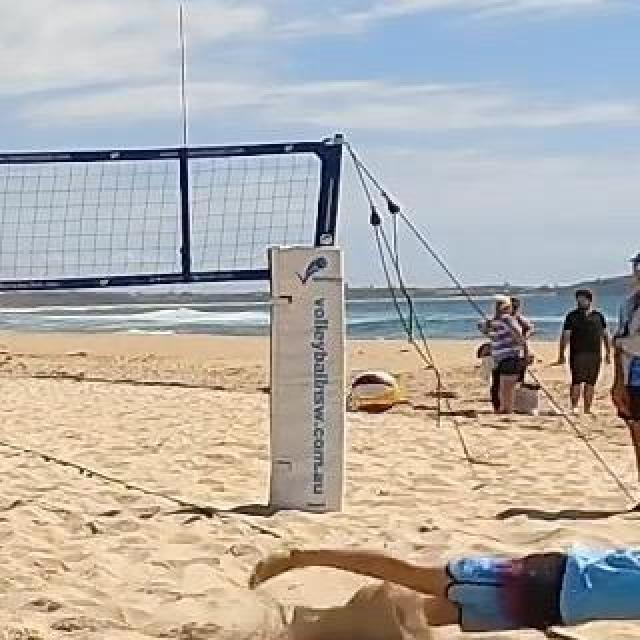volleyball: (350, 371, 396, 415)
